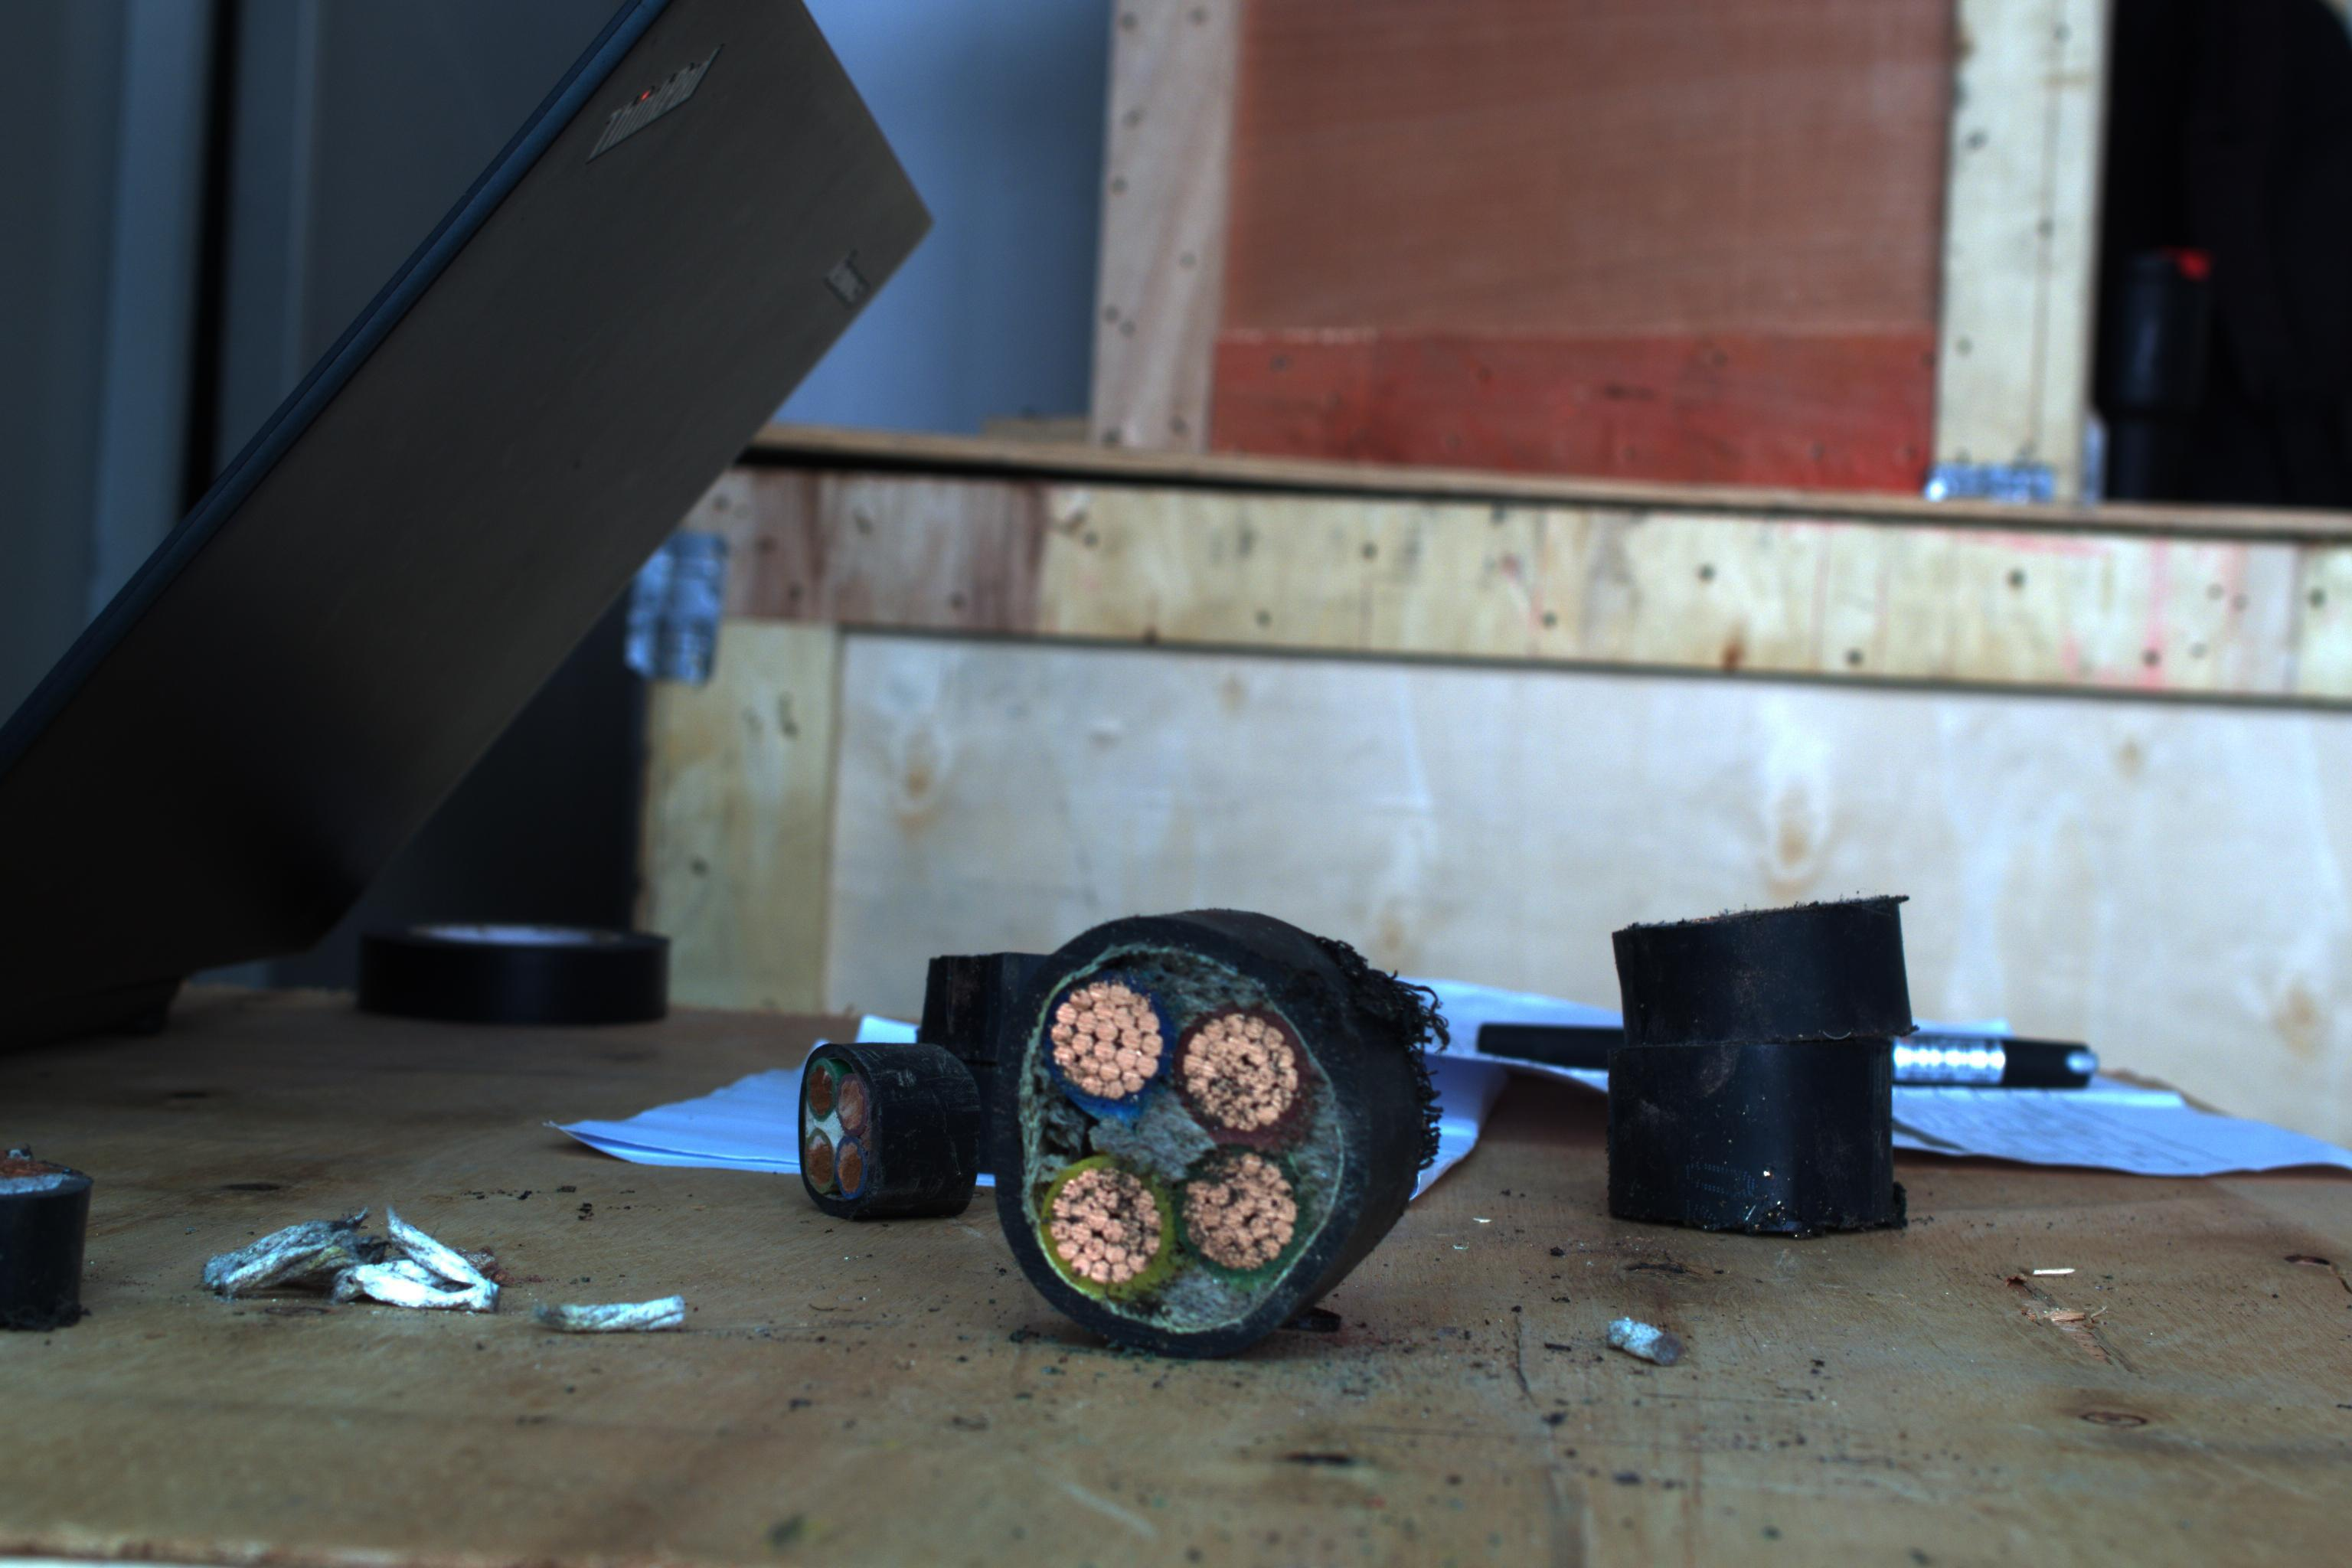YJV_0.6_1kV_4x120: (975, 901, 1349, 1377)
